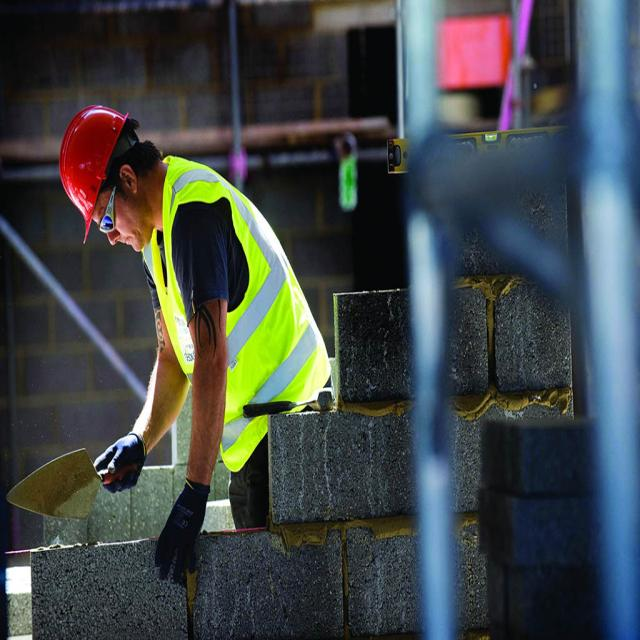gloves: (157, 477, 211, 587), (94, 431, 148, 503)
helmet: (57, 102, 130, 243)
vest: (142, 153, 332, 472)
